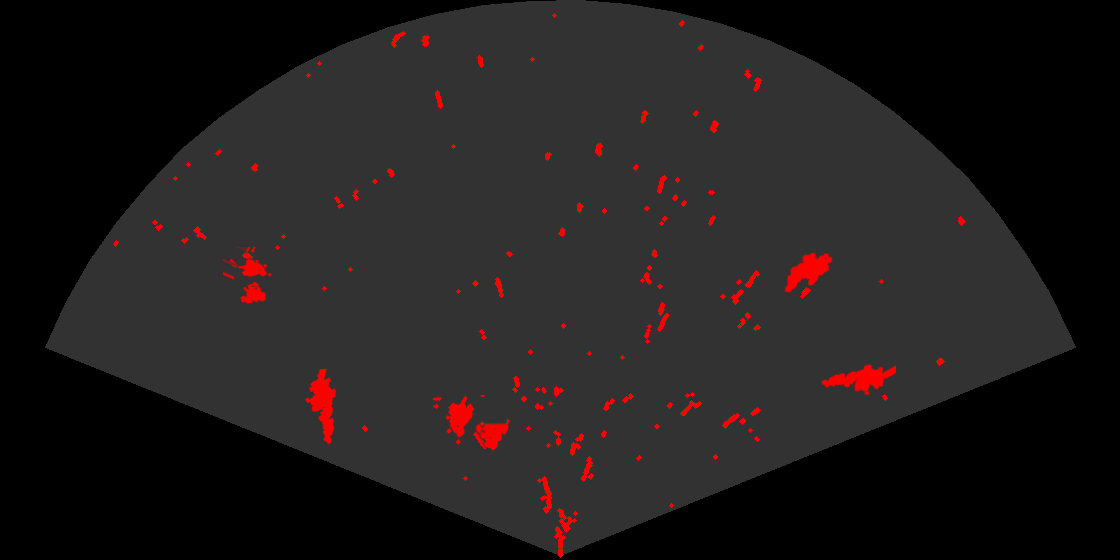AUV: (783, 251, 834, 294)
cage: (433, 395, 512, 452), (223, 247, 273, 305)
frogman: (303, 369, 338, 446), (820, 362, 896, 397)
